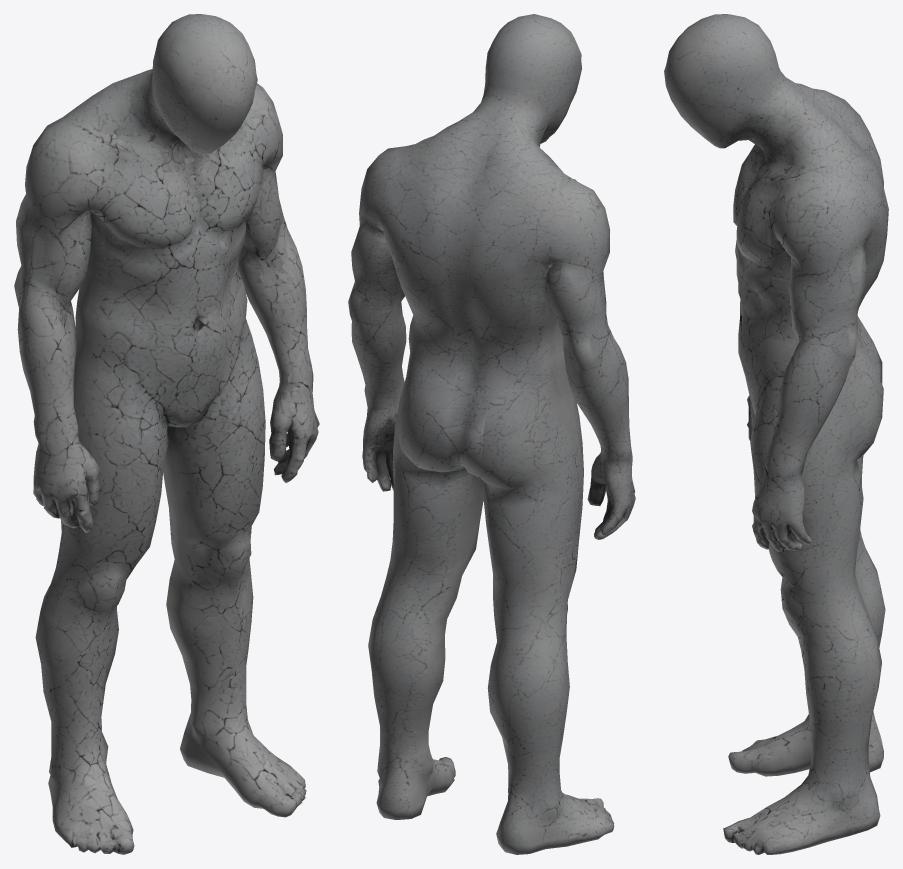
The picture shows the model from 3 angles, left to right: view 1: azimuth 30°, elevation 25°; view 2: azimuth 150°, elevation 25°; view 3: azimuth 270°, elevation 25°; orthographic projection. The views are drawn at different scales.
Visible parts, largest first — view 1: tripo_node_eea1a1c3-bc4c-4f15-92f1-8dc600ad884f; view 2: tripo_node_eea1a1c3-bc4c-4f15-92f1-8dc600ad884f; view 3: tripo_node_eea1a1c3-bc4c-4f15-92f1-8dc600ad884f.
Part boxes in pixels (left/top/right/bottom): tripo_node_eea1a1c3-bc4c-4f15-92f1-8dc600ad884f: left=14, top=14, right=319, bottom=854; tripo_node_eea1a1c3-bc4c-4f15-92f1-8dc600ad884f: left=348, top=14, right=635, bottom=854; tripo_node_eea1a1c3-bc4c-4f15-92f1-8dc600ad884f: left=664, top=14, right=888, bottom=854.
Size of the model in its own units: 0.3613 by 0.998 by 0.2598.
Materials: 1 (1 with a texture image).
